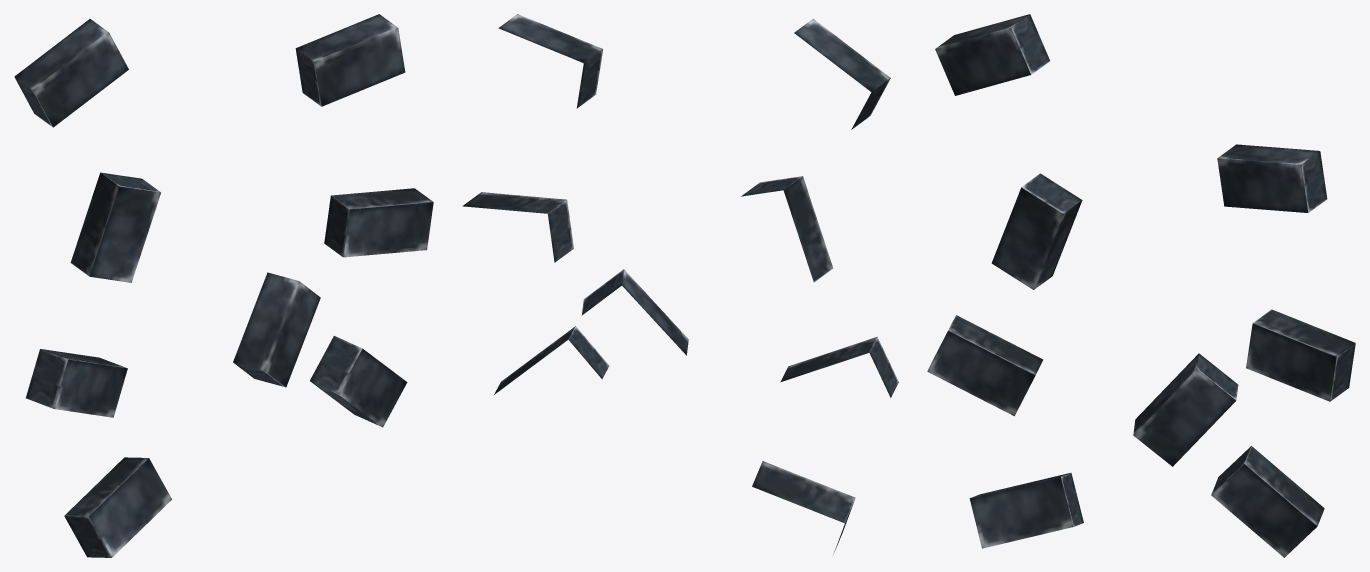
3 renders of one model, left to right at view 1: azimuth 30°, elevation 25°; view 2: azimuth 150°, elevation 25°; view 3: azimuth 330°, elevation 25°, orthographic. The views are drawn at different scales.
Parts seen in each view (by area): view 1: model_Object22; view 2: model_Object22; view 3: model_Object22.
Part boxes in pixels (x1=…): model_Object22: x1=14, y1=14, x2=433, y2=557; model_Object22: x1=462, y1=14, x2=898, y2=553; model_Object22: x1=927, y1=14, x2=1355, y2=557.
Size of the model in its own units: 6.32 by 7.78 by 1.09.
1 material, 1 textured.
